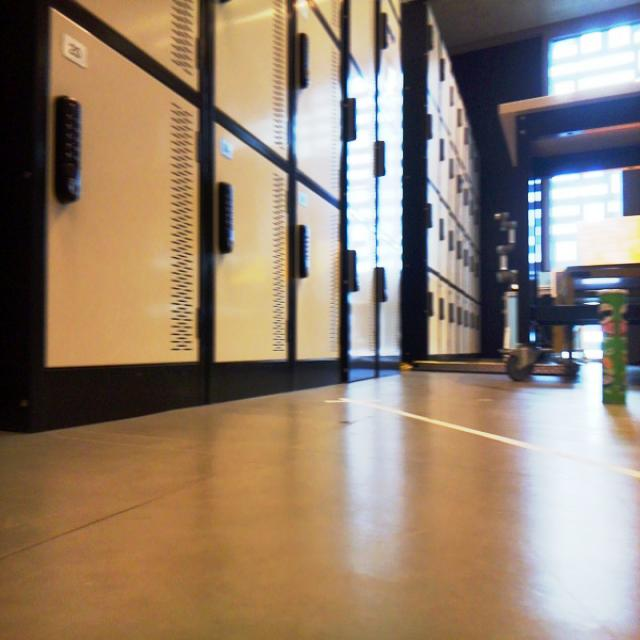greenpringles: (590, 280, 640, 415)
